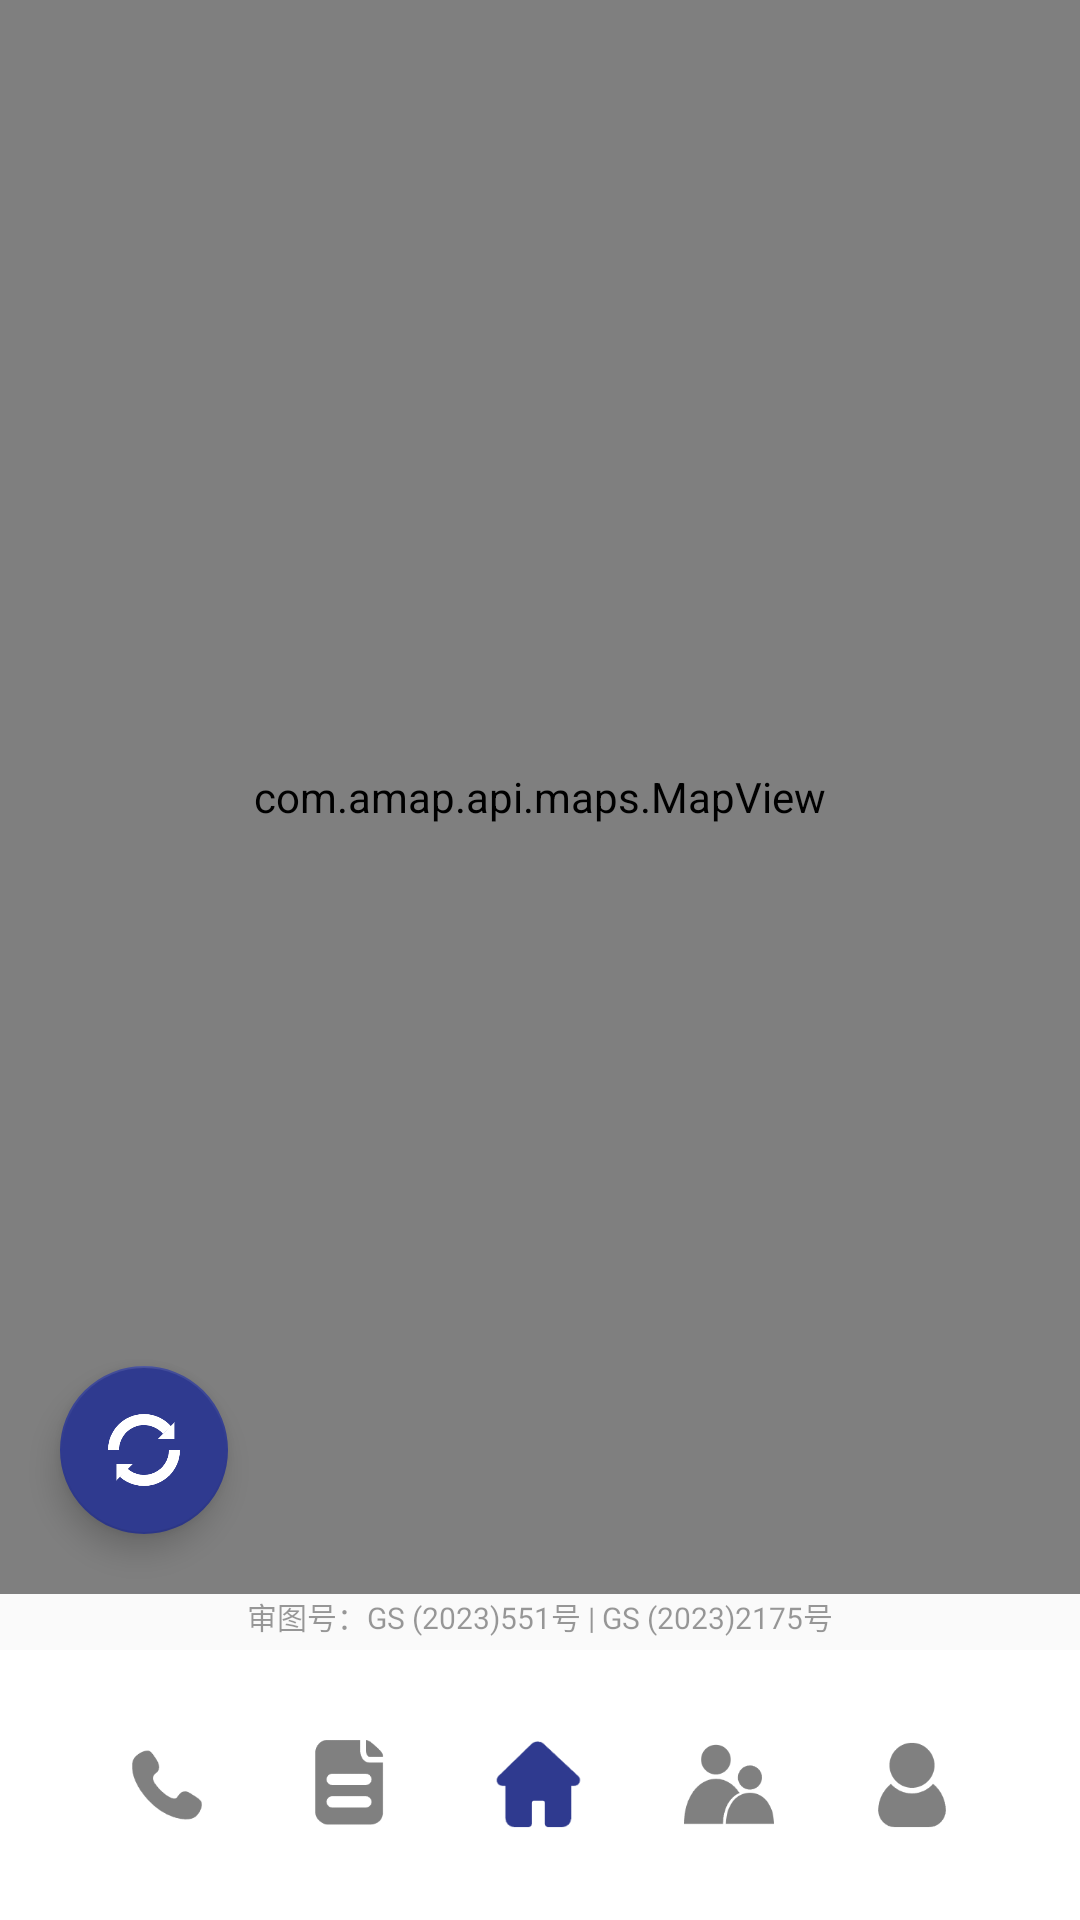

Icons on this 1080*1920 Android screen, each with the point to tap as (x=x, y=y):
document: (x=349, y=1782)
home: (x=538, y=1784)
person: (x=912, y=1785)
phone: (x=167, y=1785)
刷新: (x=144, y=1450)
